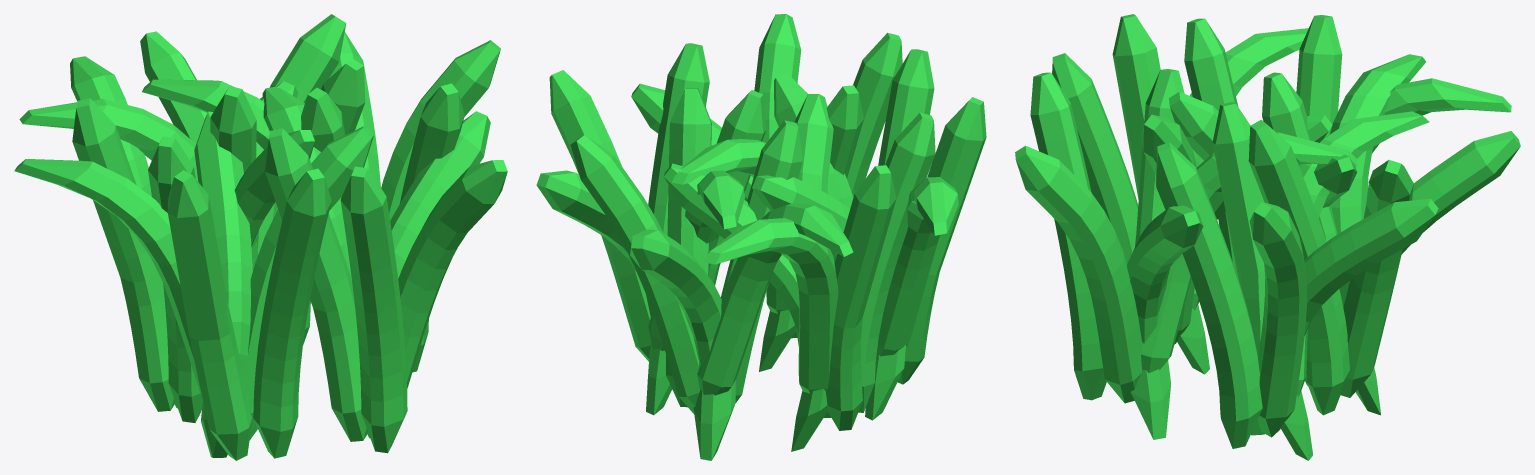
Rendered from graspiet.gltf.
The picture shows the model from 3 angles, left to right: view 1: azimuth 30°, elevation 25°; view 2: azimuth 150°, elevation 25°; view 3: azimuth 270°, elevation 25°; orthographic projection. The views are drawn at different scales.
Parts seen in each view (by area): view 1: Cube.002; view 2: Cube.002; view 3: Cube.002.
Boxes of the visible parts, box(x1,y1,x2,y2) form: Cube.002: box(14, 14, 507, 460); Cube.002: box(536, 14, 986, 460); Cube.002: box(1015, 14, 1520, 460).
Bounding box in the file's own units: 9.95 × 6.99 × 9.8.
